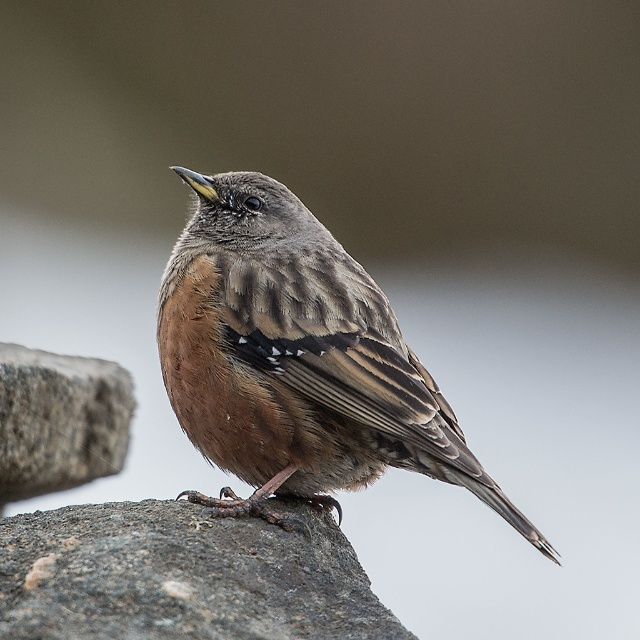Sparrow: (154, 165, 564, 565)
